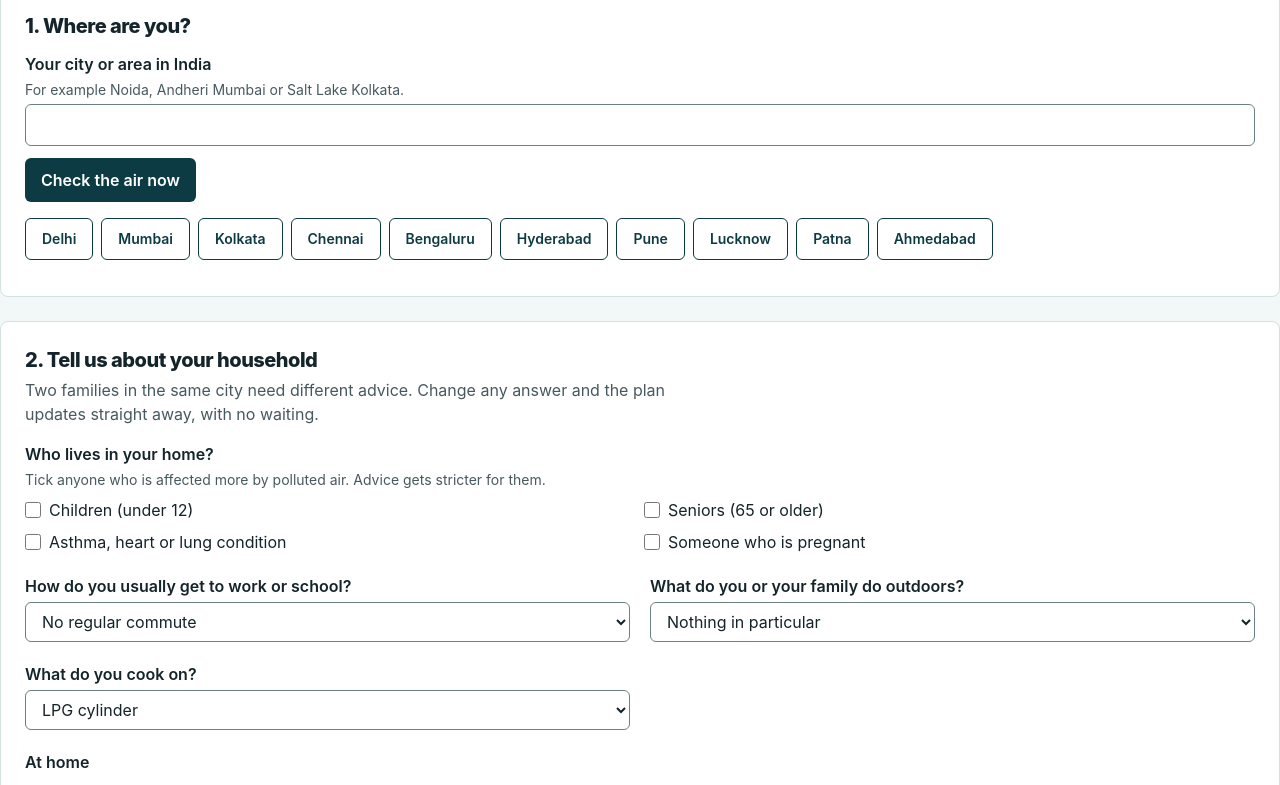
Test: checking the air › flags a reading that is too old
What coordinates should you click on to do the following:
click the button "Delhi"
I would click on:
 (59, 239)
Its box is [25,218,93,260].
(page scrolled)
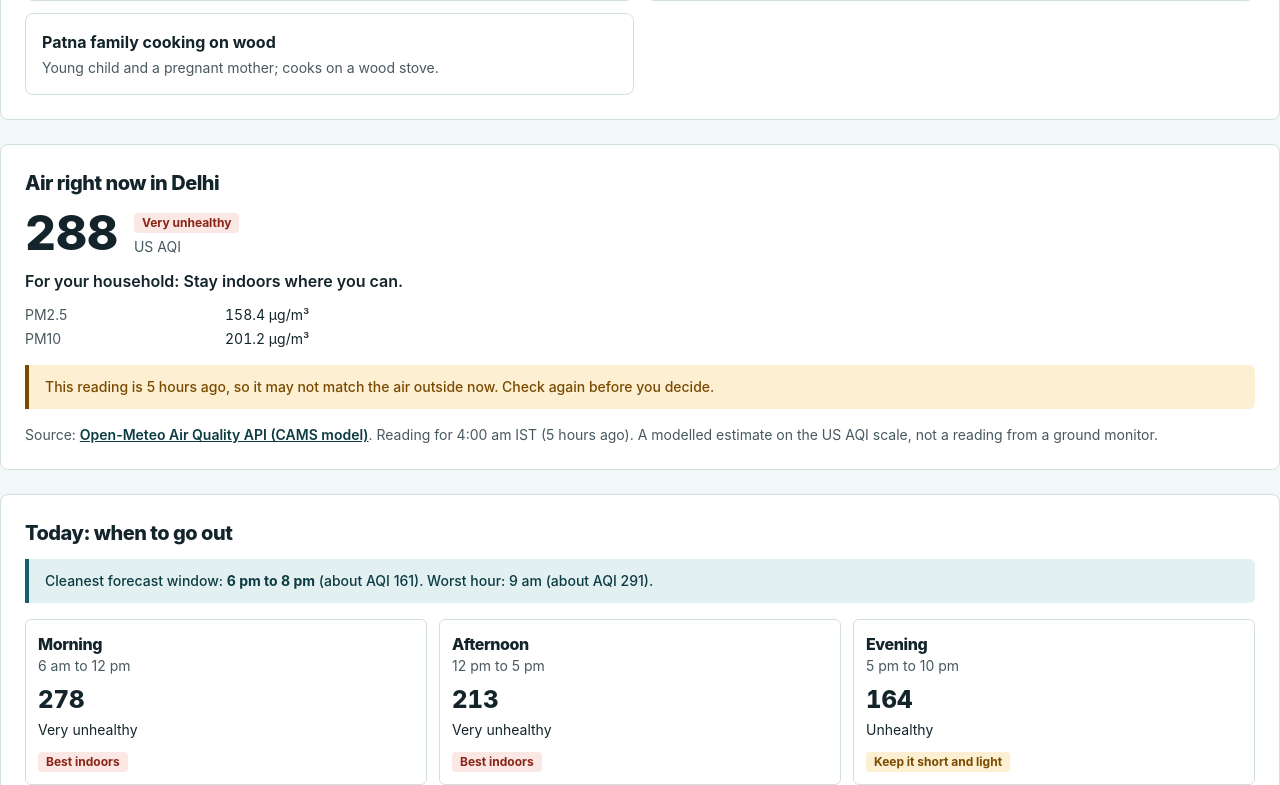
Now the heading "Air right now in Delhi" is shown, box [25,171,219,195]
